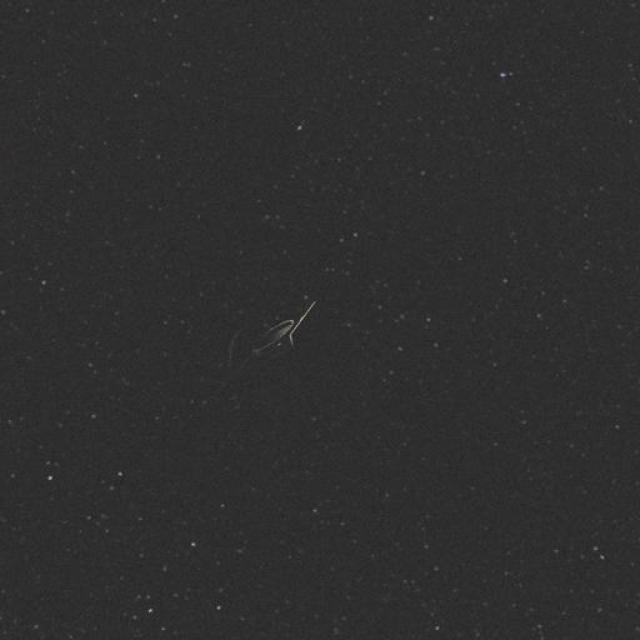proba_3_ocs: (192, 290, 364, 436)
